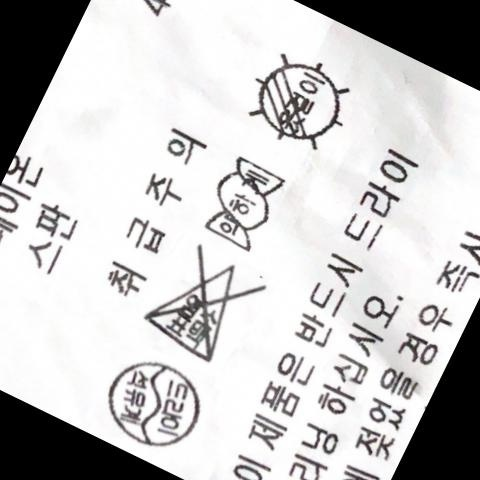dry_clean_petrol_only: (107, 360, 208, 446)
line_dry_in_shade: (249, 58, 349, 150)
non_chlorine_bleach: (151, 253, 251, 361)
wring: (206, 161, 290, 249)
